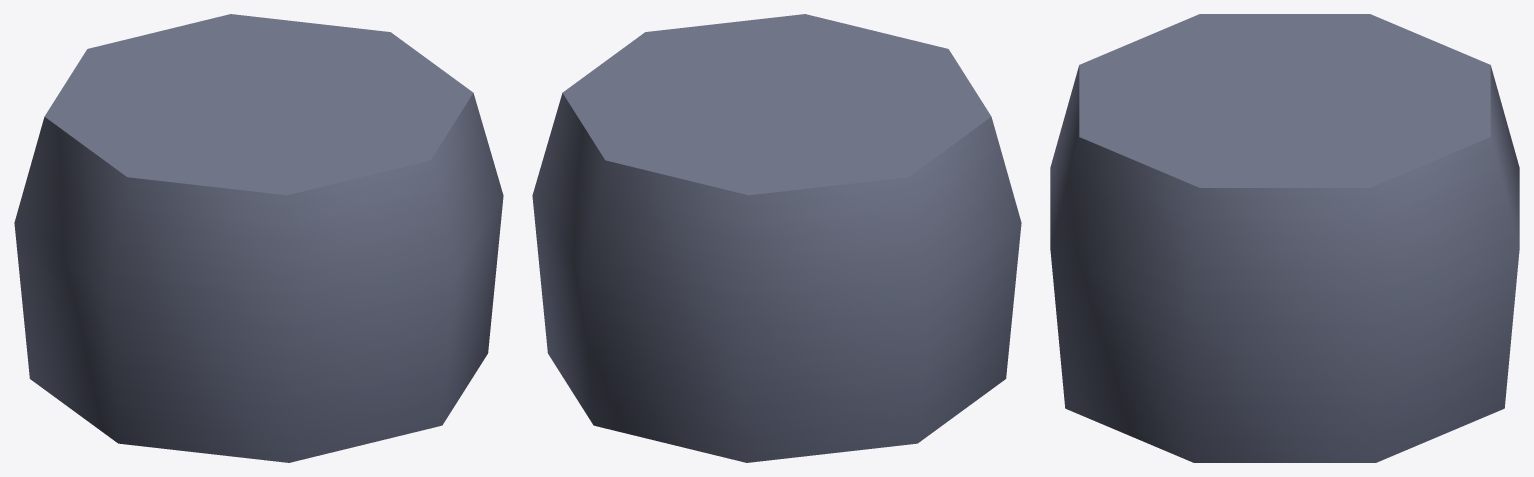
The model's file is kenney-pirate-tower-base.glb.
The picture shows the model from 3 angles, left to right: view 1: azimuth 30°, elevation 25°; view 2: azimuth 150°, elevation 25°; view 3: azimuth 270°, elevation 25°; orthographic projection. The views are drawn at different scales.
Visible parts, largest first — view 1: tower-base; view 2: tower-base; view 3: tower-base.
Part boxes in pixels (bbox=[...]): tower-base: bbox=[14, 14, 503, 462]; tower-base: bbox=[532, 14, 1021, 462]; tower-base: bbox=[1050, 14, 1519, 462].
Bounding box in the file's own units: 3.16 × 2 × 3.16.
1 material, 1 textured.
